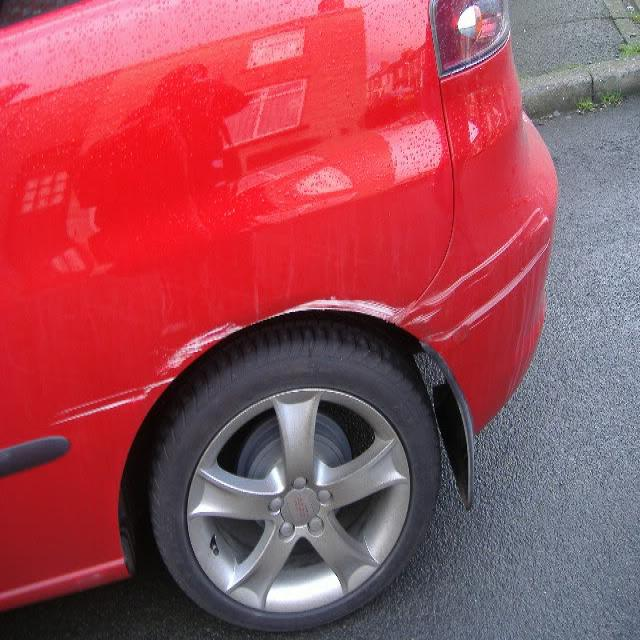Scratch: (60, 287, 402, 429)
